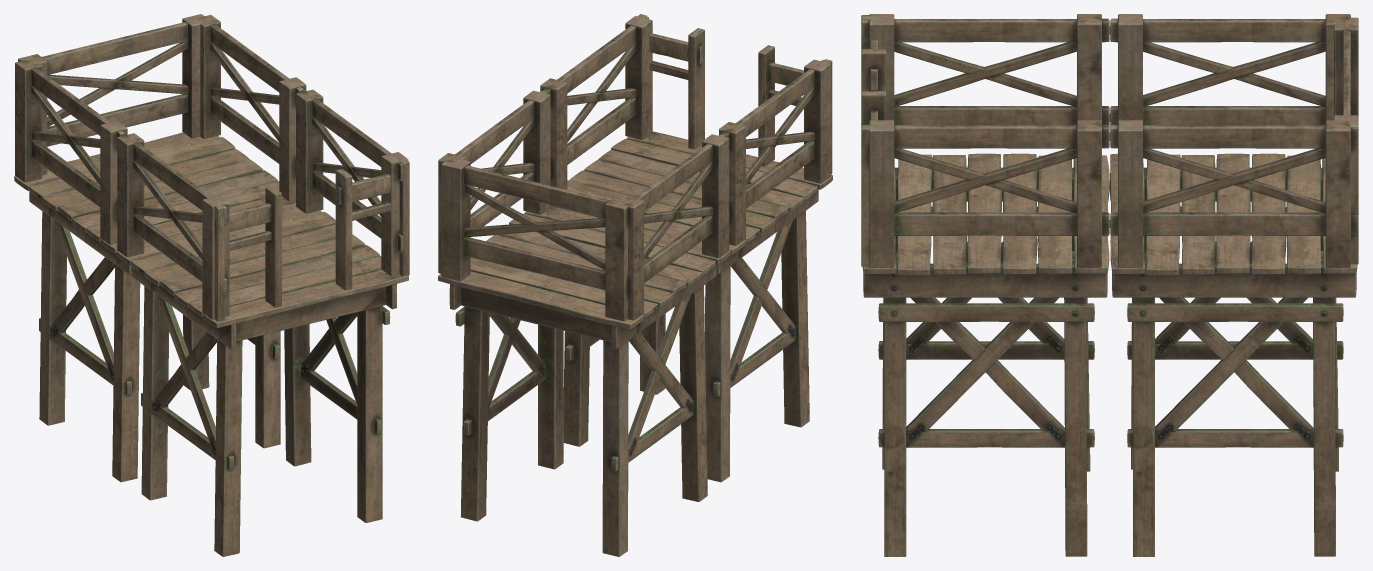
File: loft.glb
3 renders of one model, left to right at view 1: azimuth 30°, elevation 25°; view 2: azimuth 150°, elevation 25°; view 3: azimuth 270°, elevation 25°, orthographic. The views are drawn at different scales.
Parts seen in each view (by area): view 1: loft; view 2: loft; view 3: loft.
Boxes of the visible parts, box(x1,y1,x2,y2) form: loft: box(14, 14, 409, 556); loft: box(438, 14, 832, 556); loft: box(861, 14, 1358, 556).
Bounding box in the file's own units: 2 × 3.5 × 3.6.
Materials: 1 (1 with a texture image).
